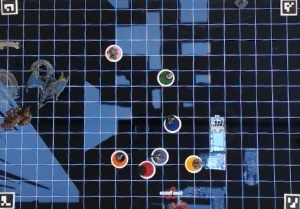blue: (162, 113, 184, 135)
green: (156, 67, 177, 87)
orange: (107, 148, 130, 171)
pink: (104, 42, 124, 62)
red: (138, 159, 157, 179)
violet: (150, 146, 169, 166)
yellow: (184, 152, 206, 174)
